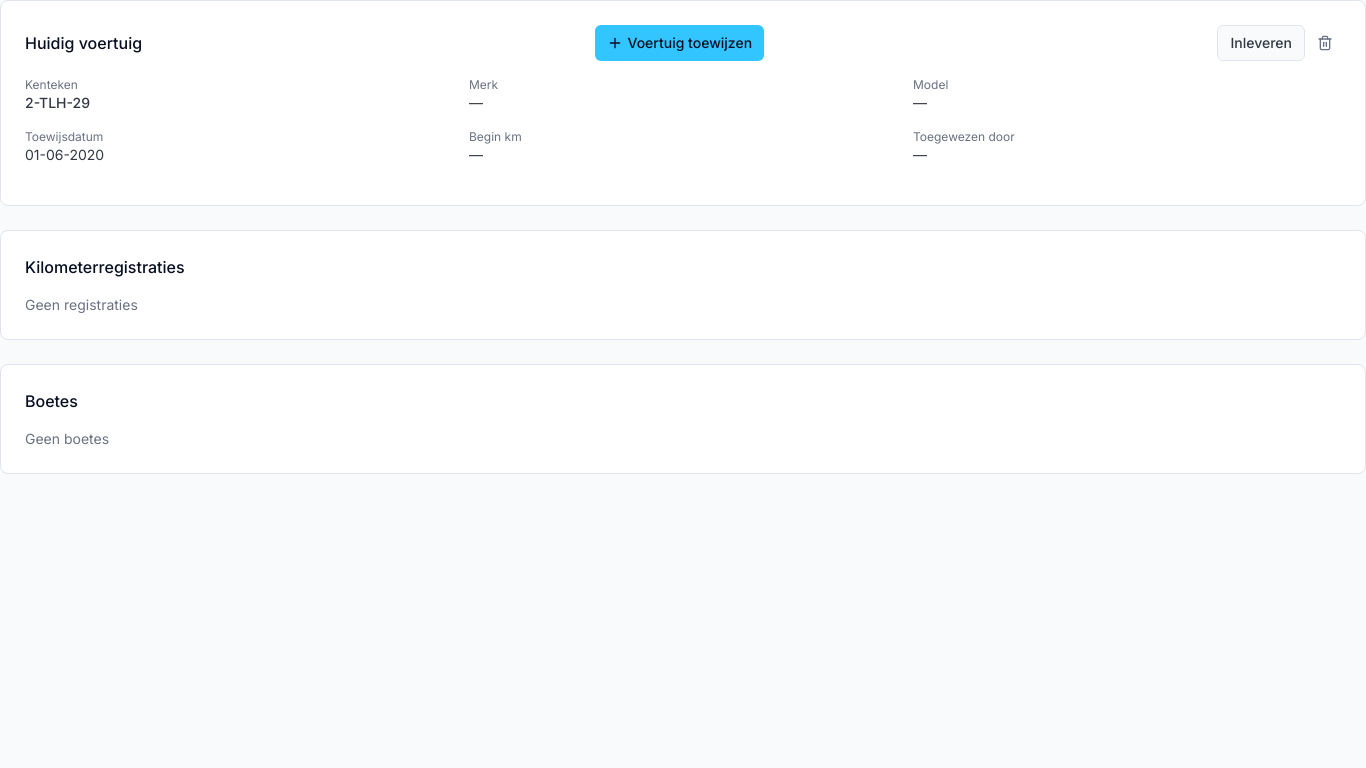
Scenario: verwijderen vanuit medewerkersdossier › behoudt de bestaande inlevervoorwaarde voor een lopende toewijzing
Click the button named "Toewijzing verwijderen": (1325, 43) [1309,27,1341,59]
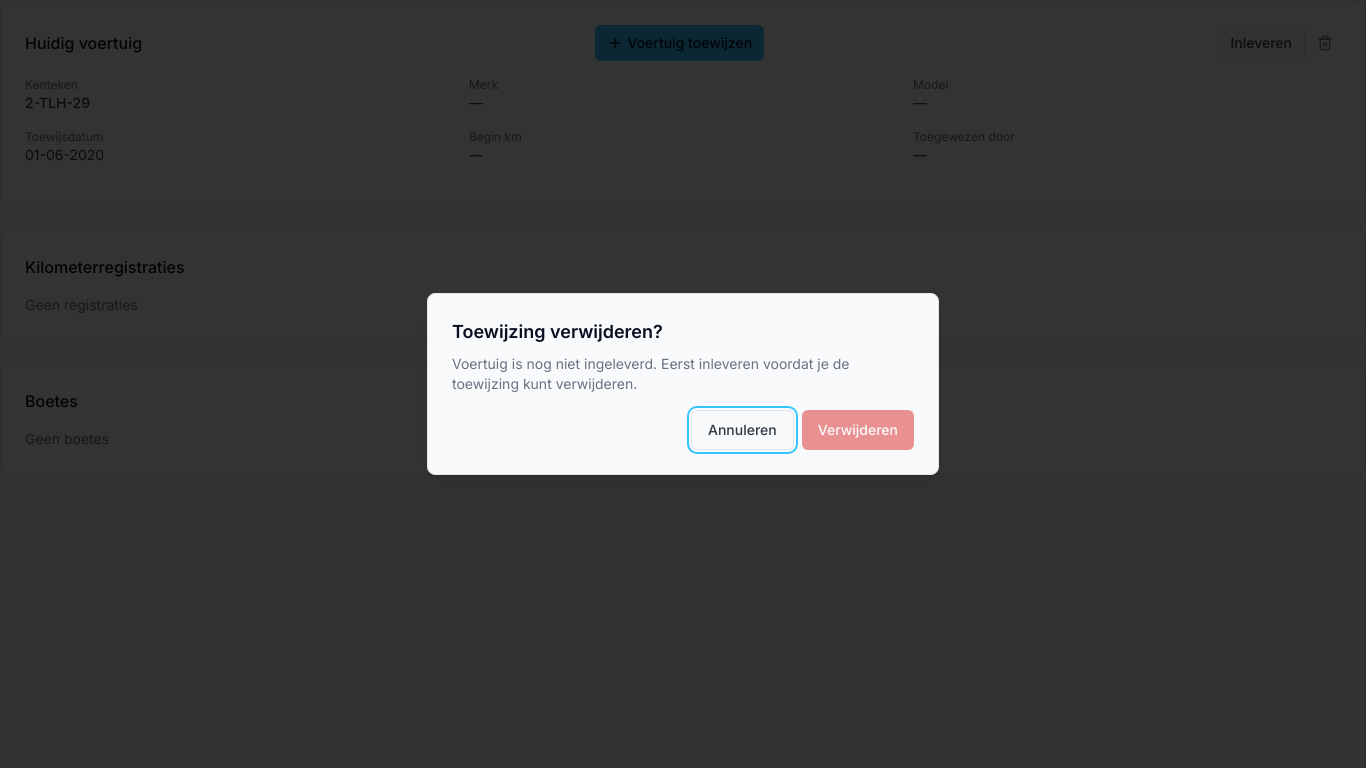
Expected: the text "Eerst inleveren" is shown, [452,355,850,392]
Expected: the button "Verwijderen" is disabled, [802,410,914,450]
